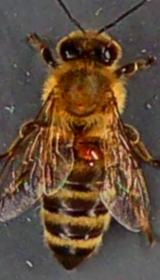varroa_mite: (70, 138, 110, 166)
